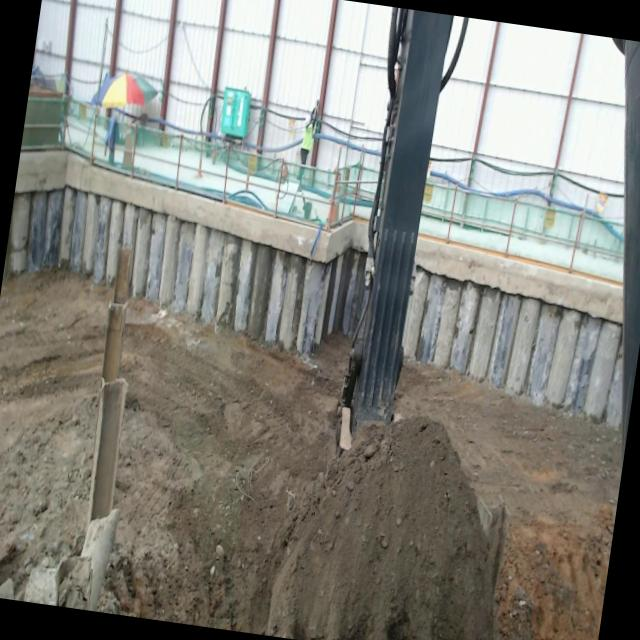cement: (15, 150, 316, 258), (416, 235, 622, 323), (312, 218, 368, 263)
red-sand: (99, 300, 621, 640), (0, 273, 111, 601)
